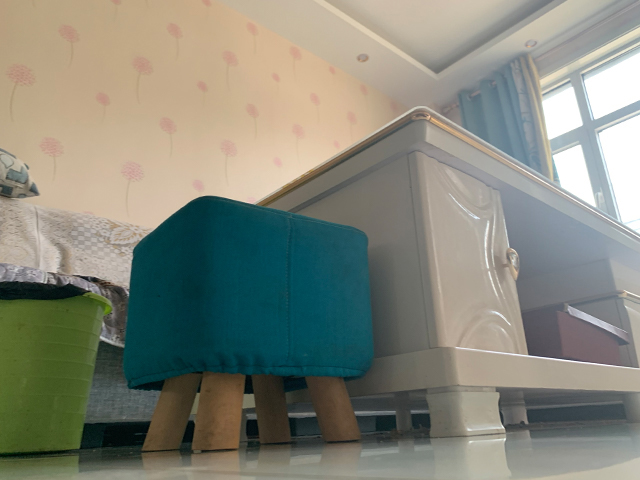stool: (121, 194, 377, 454)
table: (253, 104, 639, 439)
trashcan: (1, 280, 114, 456)
